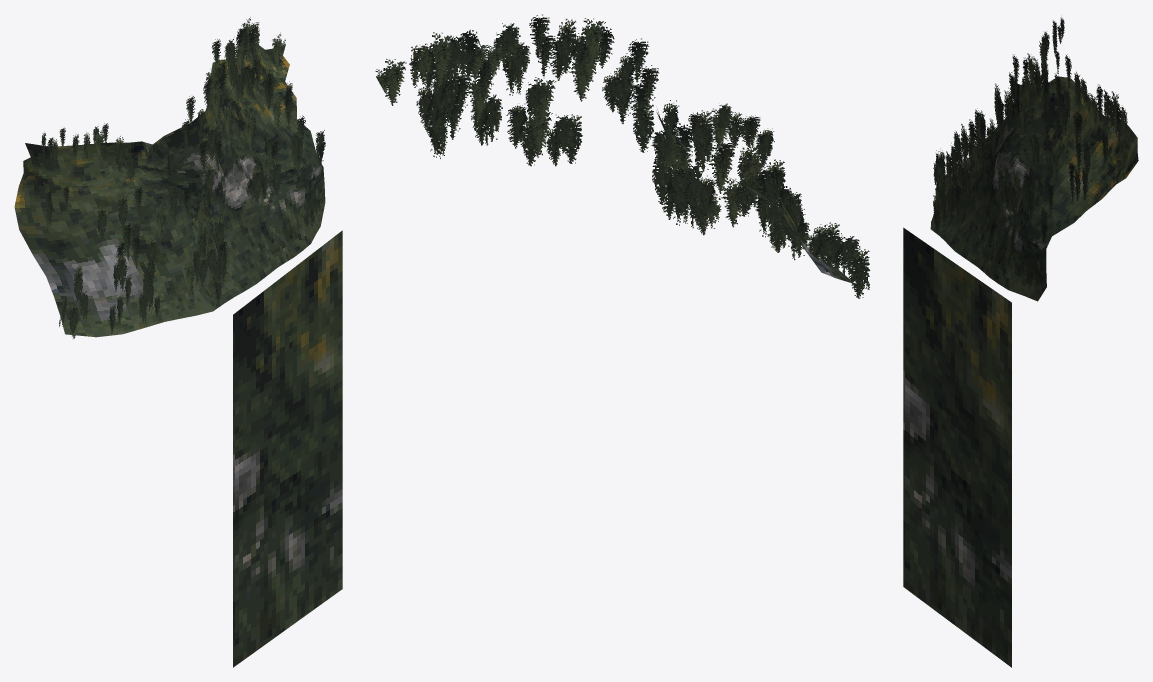
The model's file is world_camden_12_-16.gltf.
3 renders of one model, left to right at view 1: azimuth 30°, elevation 25°; view 2: azimuth 150°, elevation 25°; view 3: azimuth 270°, elevation 25°, orthographic. The views are drawn at different scales.
Size of the model in its own units: 268 by 453 by 171.
Materials: 2 (2 with a texture image).
